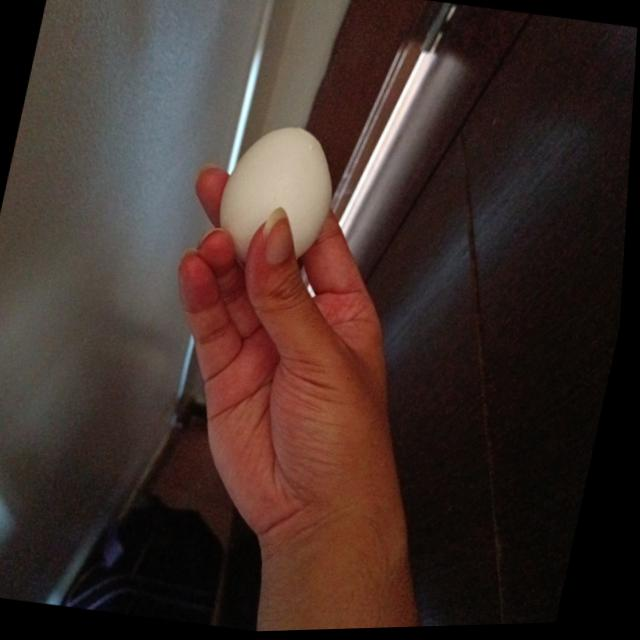egg: (214, 120, 347, 271)
